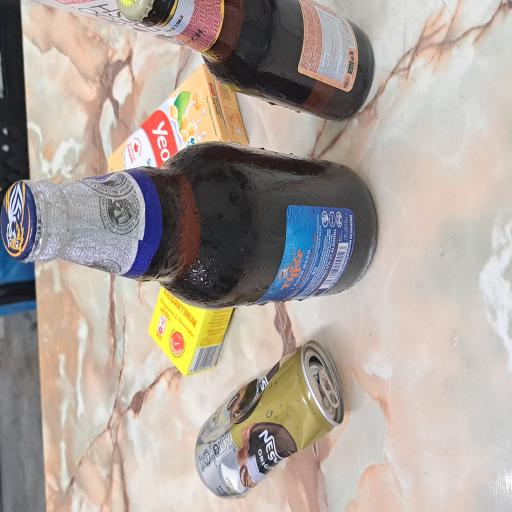can: (12, 259, 130, 459)
drink carton: (253, 141, 335, 332), (102, 196, 171, 312)
glass bottle: (152, 0, 279, 502), (293, 154, 384, 499)
